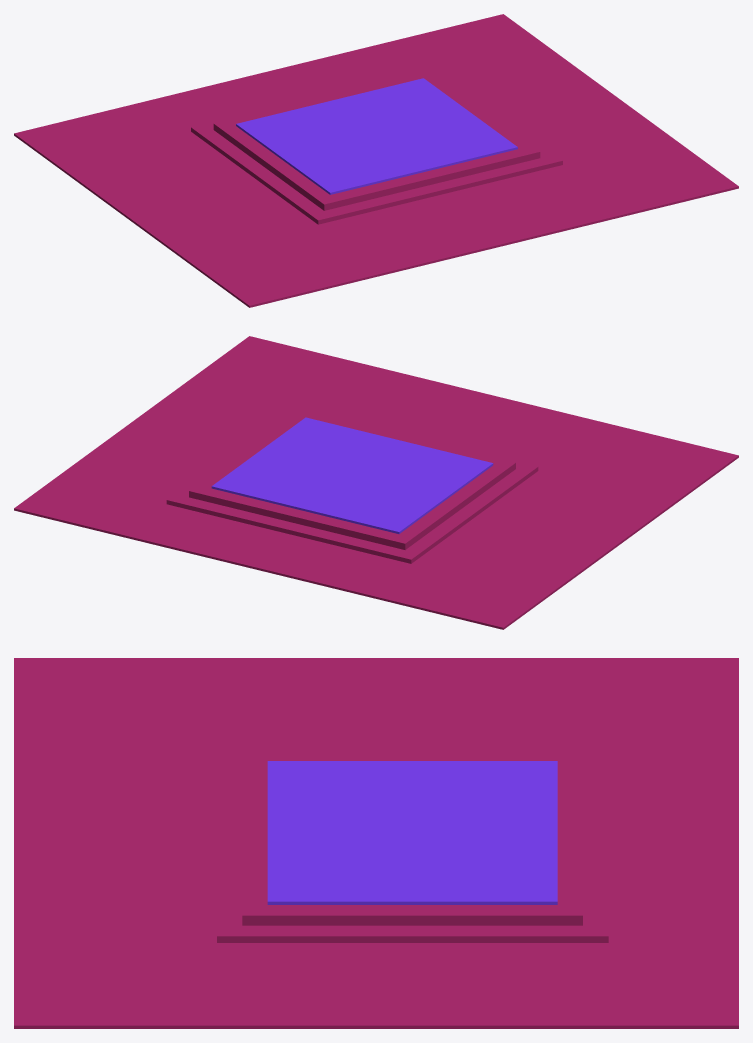
The picture shows the model from 3 angles, top to bottom: view 1: azimuth 30°, elevation 25°; view 2: azimuth 150°, elevation 25°; view 3: azimuth 270°, elevation 25°; orthographic projection. The views are drawn at different scales.
Parts seen in each view (by area): view 1: ceiling_front, ceiling_back, coffer_top, ceiling_left, ceiling_right, soffit_1_f, soffit_0_f, soffit_0_l, soffit_1_l, soffit_1_b, soffit_1_r, soffit_0_r (+1 smaller); view 2: ceiling_front, ceiling_back, coffer_top, ceiling_left, ceiling_right, soffit_1_b, soffit_0_b, soffit_0_l, soffit_1_l, soffit_1_f, soffit_1_r, soffit_0_r (+1 smaller); view 3: ceiling_front, ceiling_back, coffer_top, ceiling_left, ceiling_right, soffit_0_r, soffit_1_r, soffit_0_b, soffit_0_f, soffit_1_b, soffit_1_f, soffit_1_l (+1 smaller).
Boxes of the visible parts, box(x1,y1,x2,y2) form: ceiling_front: box(183, 138, 738, 307); ceiling_back: box(14, 14, 545, 165); coffer_top: box(236, 78, 517, 194); ceiling_left: box(56, 131, 317, 259); ceiling_right: box(440, 45, 672, 164); soffit_1_f: box(316, 146, 540, 210); soffit_0_f: box(310, 154, 562, 224); soffit_0_l: box(199, 130, 323, 218); soffit_1_l: box(221, 126, 329, 204); soffit_1_b: box(213, 71, 437, 135); soffit_1_r: box(426, 77, 531, 148); soffit_0_r: box(436, 73, 554, 157); ceiling_front: box(184, 336, 738, 505); ceiling_back: box(14, 477, 545, 629); coffer_top: box(211, 417, 493, 533); ceiling_left: box(411, 471, 672, 598); ceiling_right: box(57, 384, 288, 503); soffit_1_b: box(189, 485, 413, 549); soffit_0_b: box(166, 494, 419, 563); soffit_0_l: box(405, 469, 530, 557); soffit_1_l: box(399, 465, 507, 543); soffit_1_f: box(292, 410, 515, 474); soffit_1_r: box(198, 416, 302, 488); soffit_0_r: box(175, 413, 292, 497); ceiling_front: box(14, 658, 216, 1028); ceiling_back: box(608, 658, 738, 1028); coffer_top: box(267, 761, 557, 904); ceiling_left: box(217, 658, 608, 752); ceiling_right: box(217, 943, 608, 1028); soffit_0_r: box(242, 925, 582, 942); soffit_1_r: box(267, 905, 557, 925); soffit_0_b: box(583, 752, 608, 942); soffit_0_f: box(217, 752, 242, 942); soffit_1_b: box(557, 753, 582, 925); soffit_1_f: box(242, 753, 267, 925); soffit_1_l: box(267, 753, 557, 760).
Bounding box in the file's own units: 12 × 0.35 × 10.
